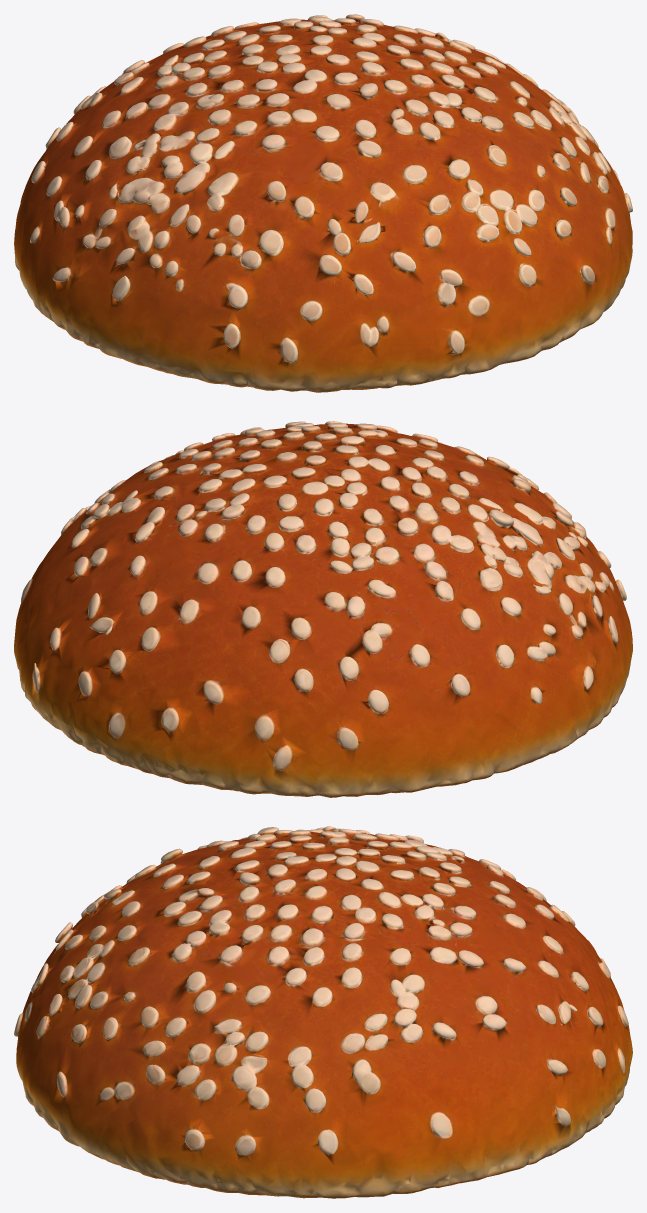
File: bun-top.glb
The picture shows the model from 3 angles, top to bottom: view 1: azimuth 30°, elevation 25°; view 2: azimuth 150°, elevation 25°; view 3: azimuth 270°, elevation 25°; orthographic projection.
Bounding box in the file's own units: 1.9 × 0.7158 × 1.91.
1 material, 1 textured.
